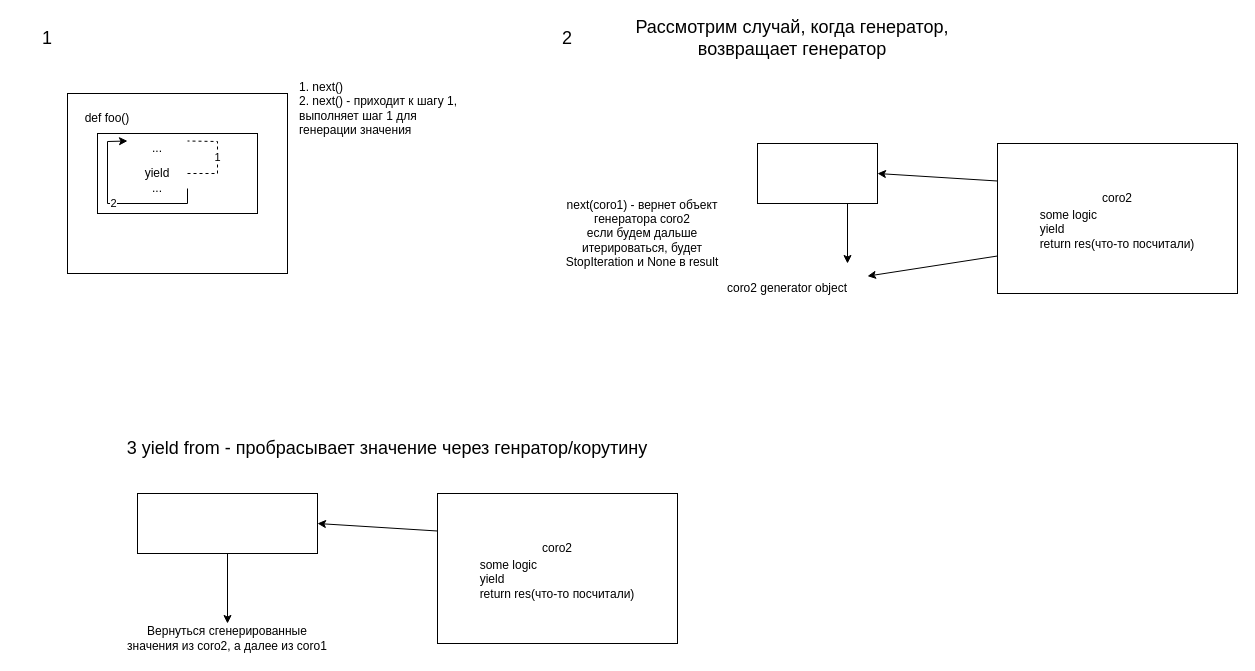
Image size: 1255x671. Some labels were removed from this diagram. The box of each missing label's shape, as (x1, y1, x2, y2) in pixels:
coro1 res = yield coro2() print(res): (756, 142, 878, 204)
coro1 res = yield from coro2() print(res): (136, 492, 318, 554)
